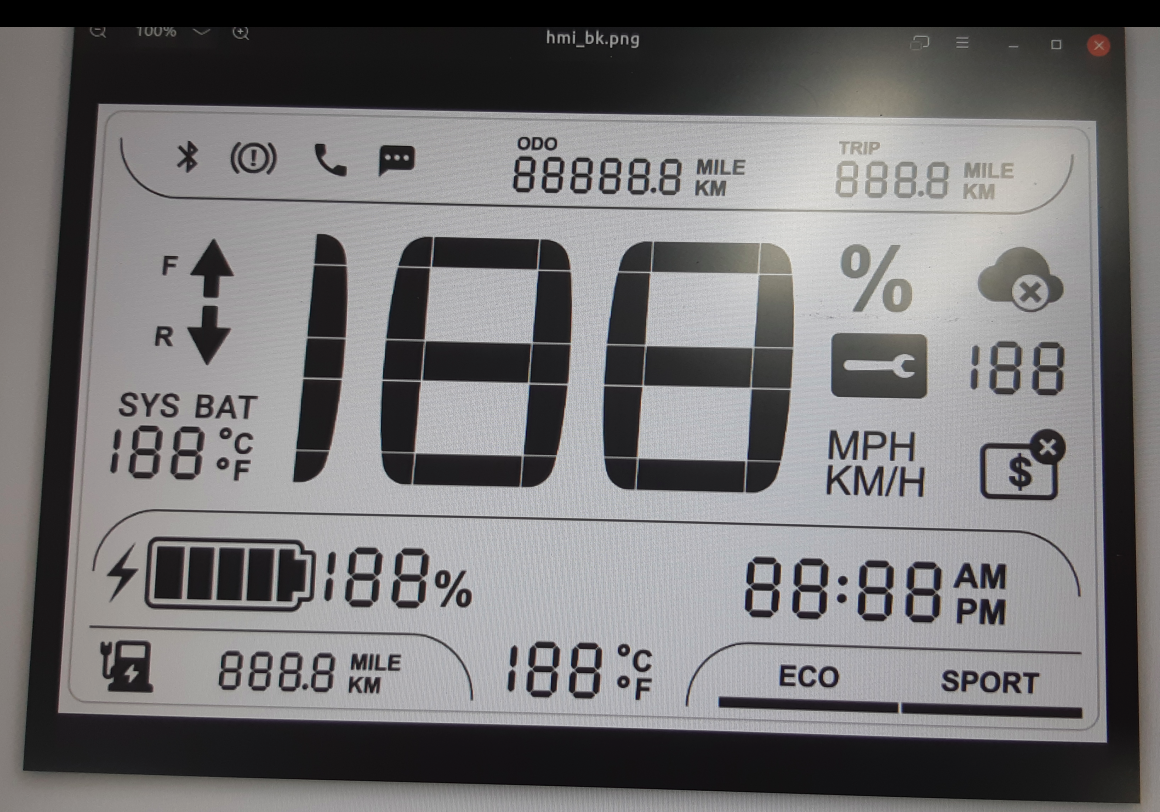bluetooth_on: (171, 135, 205, 175)
braking_on: (228, 138, 281, 178)
calling_on: (310, 141, 352, 181)
connection_lost: (972, 244, 1069, 316)
error_code: (826, 329, 932, 404)
low_battery: (96, 636, 158, 698)
sms_on: (374, 140, 419, 182)
vin_id: (978, 426, 1070, 504)
